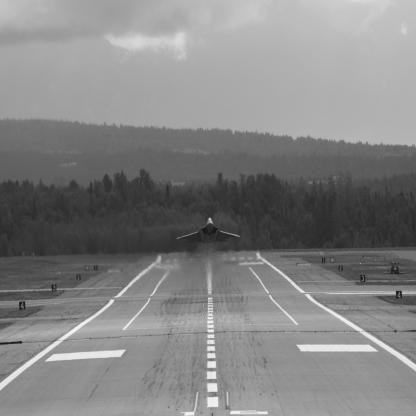F22: (177, 218, 241, 245)
